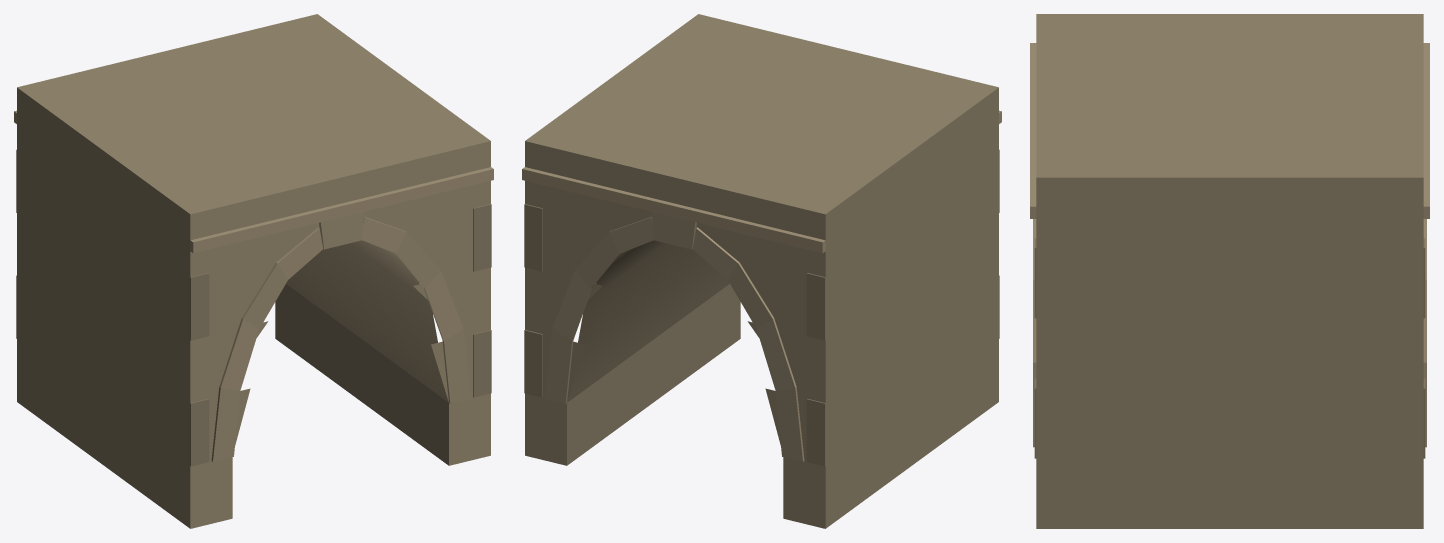
Rendered from SM_Prop_bridge_arch_1_LOD1.glb.
3 renders of one model, left to right at view 1: azimuth 30°, elevation 25°; view 2: azimuth 150°, elevation 25°; view 3: azimuth 270°, elevation 25°, orthographic. The views are drawn at different scales.
Parts seen in each view (by area): view 1: SM_Prop_bridge_arch_1_LOD1; view 2: SM_Prop_bridge_arch_1_LOD1; view 3: SM_Prop_bridge_arch_1_LOD1.
Part boxes in pixels (left/top/right/bottom): SM_Prop_bridge_arch_1_LOD1: left=14, top=14, right=493, bottom=528; SM_Prop_bridge_arch_1_LOD1: left=522, top=14, right=1001, bottom=528; SM_Prop_bridge_arch_1_LOD1: left=1030, top=14, right=1429, bottom=528.
Bounding box in the file's own units: 1 × 1 × 1.03.
